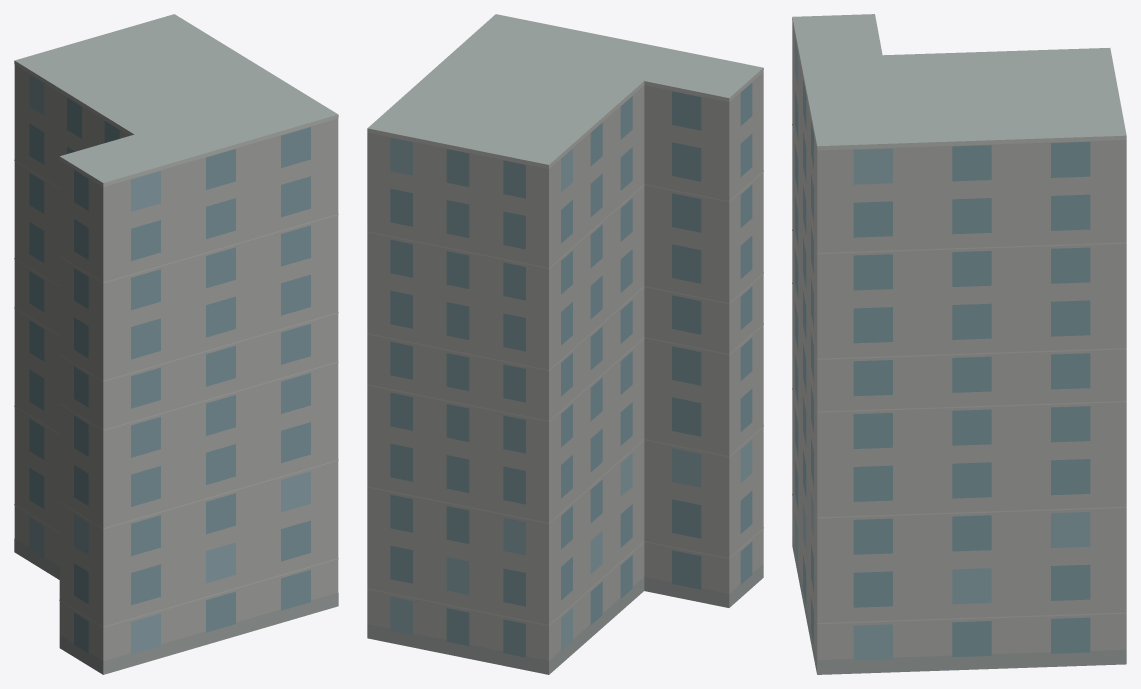
File: survey-upis-32676690.glb
3 renders of one model, left to right at view 1: azimuth 30°, elevation 25°; view 2: azimuth 150°, elevation 25°; view 3: azimuth 270°, elevation 25°, orthographic. The views are drawn at different scales.
Visible parts, largest first — view 1: survey-upis-32676690.tmp; view 2: survey-upis-32676690.tmp; view 3: survey-upis-32676690.tmp.
Part boxes in pixels (x1,y1,x2,y2): survey-upis-32676690.tmp: [14, 14, 338, 674]; survey-upis-32676690.tmp: [367, 14, 763, 674]; survey-upis-32676690.tmp: [792, 14, 1126, 674].
Bounding box in the file's own units: 16.11 × 30 × 17.22.
